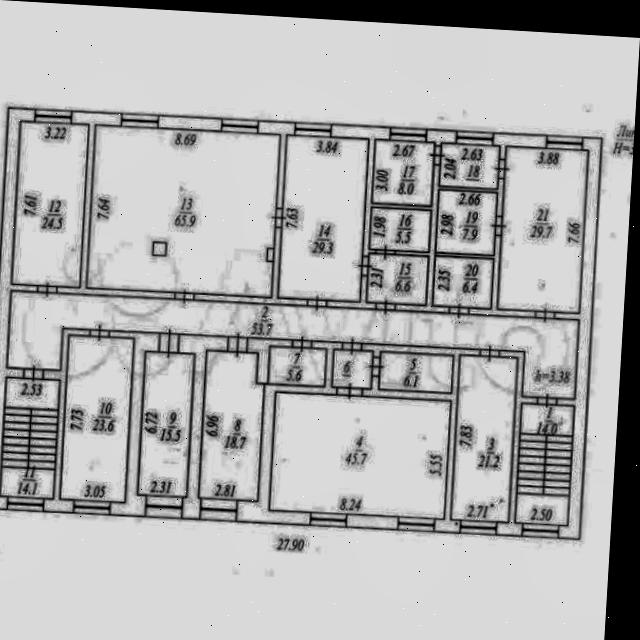room: (7, 291, 579, 399), (87, 125, 280, 298), (270, 392, 451, 519), (497, 146, 588, 313), (278, 135, 369, 301), (11, 121, 89, 287), (60, 336, 134, 502), (451, 355, 518, 522), (199, 351, 266, 501), (137, 351, 196, 496), (0, 378, 60, 500), (515, 403, 574, 525), (372, 139, 435, 206), (436, 190, 497, 257), (433, 255, 493, 309), (366, 254, 429, 305), (379, 352, 454, 393), (440, 143, 499, 189), (370, 207, 431, 251), (268, 347, 326, 386), (332, 350, 372, 389)
